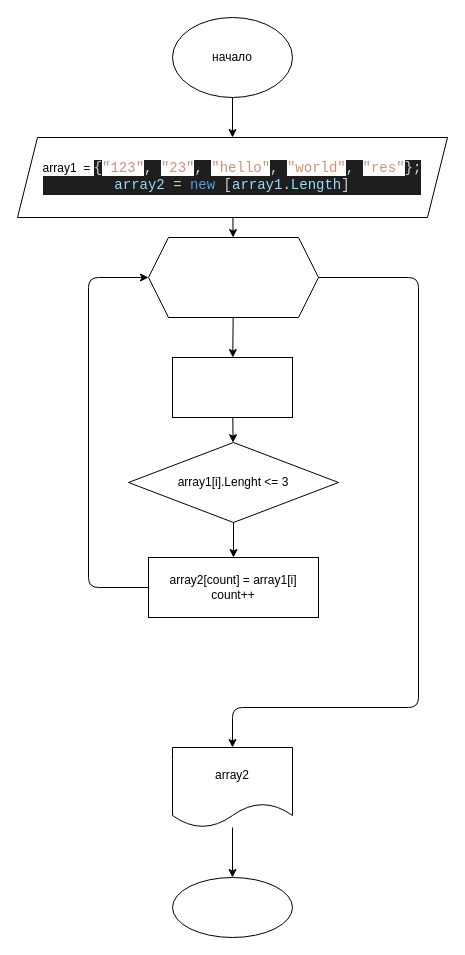
Image size: 465x955. Some labels were removed from this diagram. Here are the shapes that lost their labels. From the top down, the box of each, then its label:
(148, 236, 318, 318): i = 0; i < array1.Lenght; i++
(172, 356, 292, 418): count = 0
